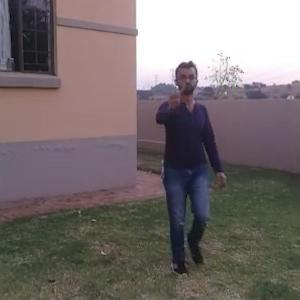takeoff-hand: (164, 79, 183, 113)
